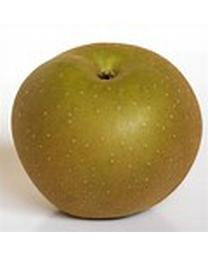apple: (12, 43, 203, 219)
